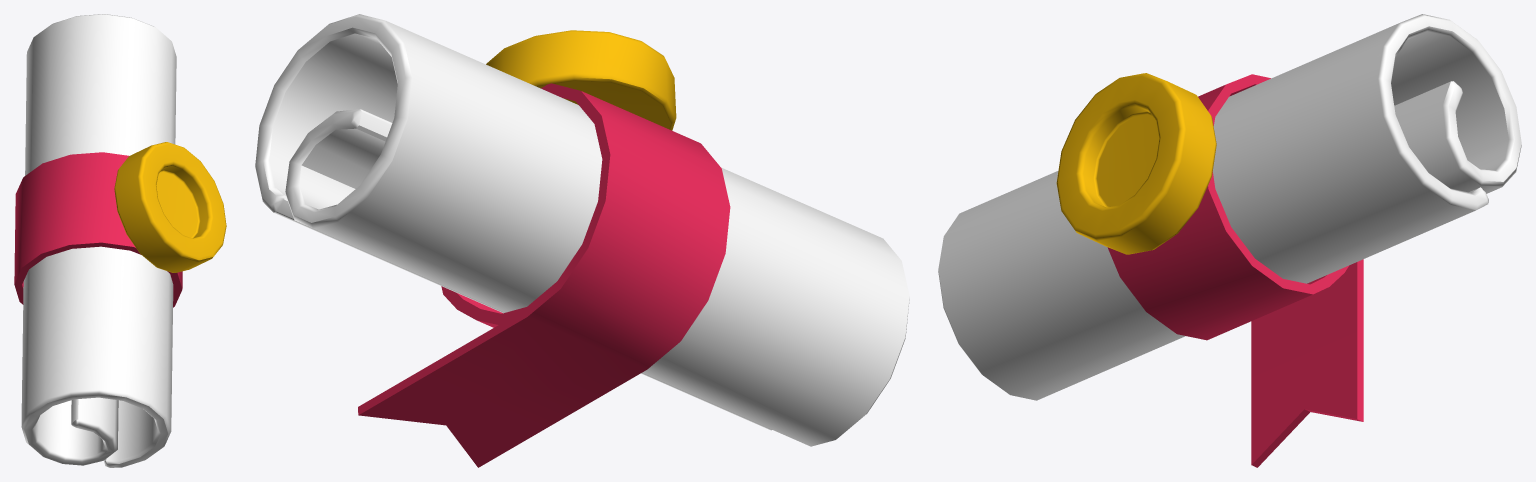
The picture shows the model from 3 angles, left to right: view 1: azimuth 30°, elevation 25°; view 2: azimuth 150°, elevation 25°; view 3: azimuth 270°, elevation 25°; orthographic projection. The views are drawn at different scales.
Parts seen in each view (by area): view 1: model_0.027; view 2: model_0.027; view 3: model_0.027.
Boxes of the visible parts, x1,y1,x2,y2 form: model_0.027: [14, 14, 226, 467]; model_0.027: [255, 14, 909, 467]; model_0.027: [938, 14, 1521, 467].
Size of the model in its own units: 3.26 by 3.65 by 4.24.
